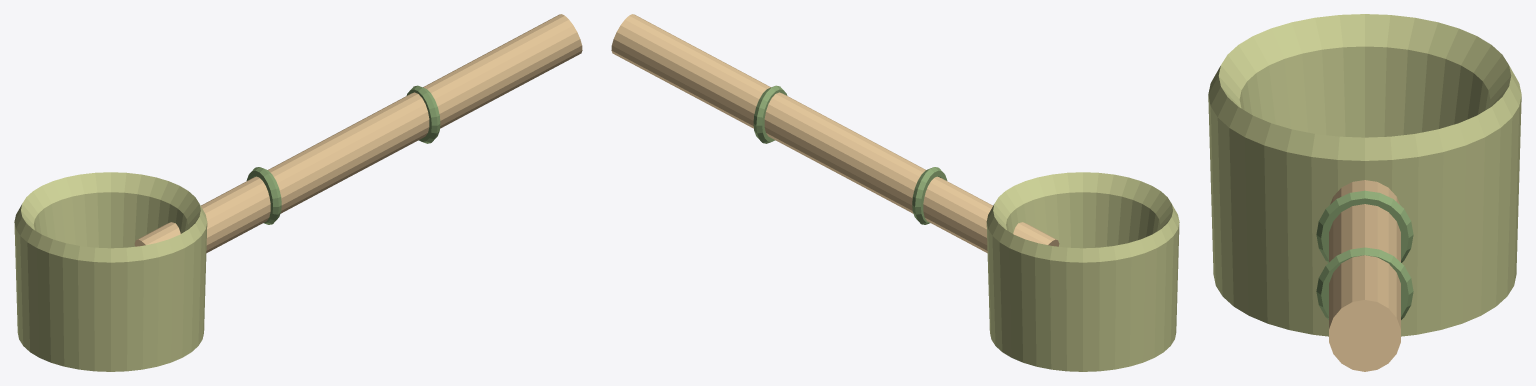
The model's file is ritual_temizuya_ladle.glb.
3 renders of one model, left to right at view 1: azimuth 30°, elevation 25°; view 2: azimuth 150°, elevation 25°; view 3: azimuth 270°, elevation 25°, orthographic. The views are drawn at different scales.
Visible parts, largest first — view 1: Bamboo ladle deep water cup, Long bamboo ladle handle, Ladle handle joints, Ladle handle joints.001; view 2: Bamboo ladle deep water cup, Long bamboo ladle handle, Ladle handle joints, Ladle handle joints.001; view 3: Bamboo ladle deep water cup, Long bamboo ladle handle, Ladle handle joints, Ladle handle joints.001.
Part boxes in pixels (bbox=[...]): Bamboo ladle deep water cup: bbox=[14, 172, 207, 371]; Long bamboo ladle handle: bbox=[134, 14, 582, 253]; Ladle handle joints: bbox=[246, 167, 281, 224]; Ladle handle joints.001: bbox=[406, 85, 440, 143]; Bamboo ladle deep water cup: bbox=[986, 172, 1179, 371]; Long bamboo ladle handle: bbox=[611, 14, 1059, 253]; Ladle handle joints: bbox=[912, 167, 947, 224]; Ladle handle joints.001: bbox=[753, 85, 787, 143]; Bamboo ladle deep water cup: bbox=[1208, 14, 1521, 336]; Long bamboo ladle handle: bbox=[1329, 180, 1400, 371]; Ladle handle joints: bbox=[1316, 190, 1413, 262]; Ladle handle joints.001: bbox=[1316, 247, 1413, 319].
Bounding box in the file's own units: 1.95 × 0.7305 × 0.5943.
